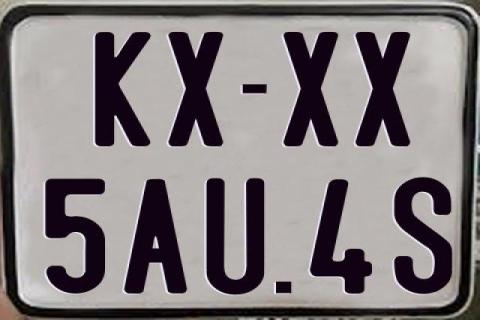0: (44, 178, 108, 294), (308, 177, 370, 292)
A: (122, 179, 190, 293)
K: (96, 32, 153, 146)
S: (391, 176, 454, 294)
U: (204, 176, 266, 293)
X: (354, 31, 414, 145), (169, 32, 226, 148), (281, 30, 339, 144)
